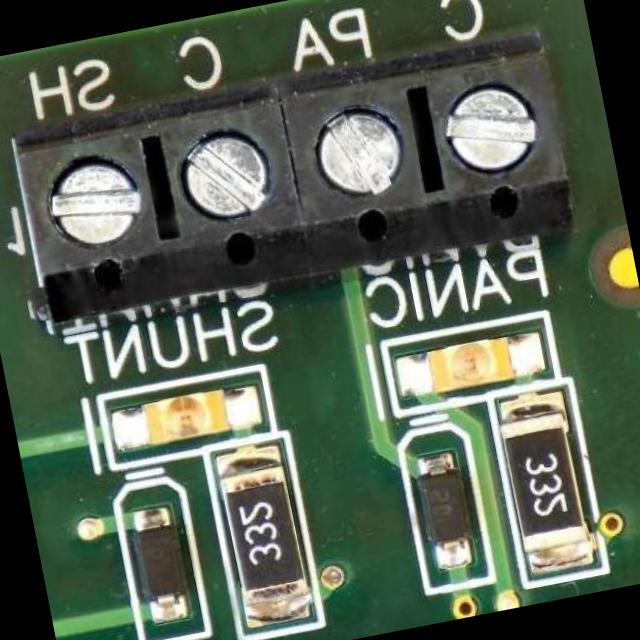LED: (119, 374, 266, 462), (396, 330, 547, 407)
connector: (17, 28, 598, 334)
diode: (124, 498, 193, 620), (412, 455, 478, 553)
resistor: (217, 448, 325, 628), (489, 397, 598, 568)
